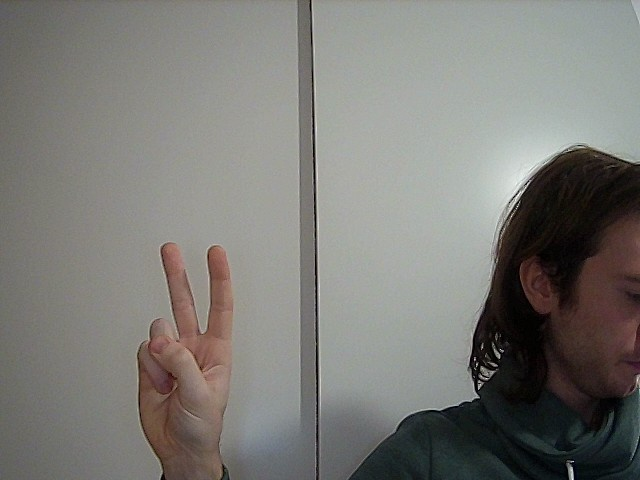v: (111, 229, 246, 475)
